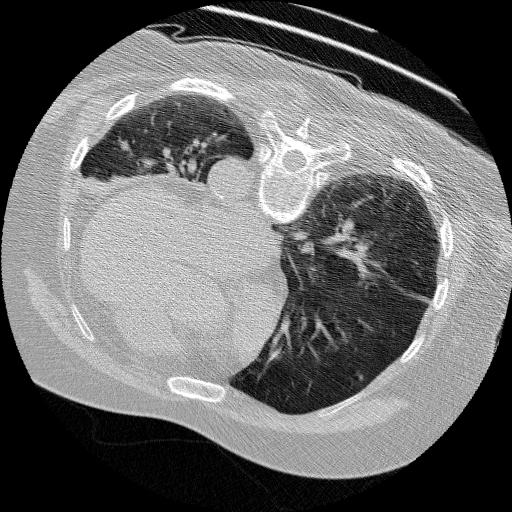nodule: (118, 139, 132, 153)
